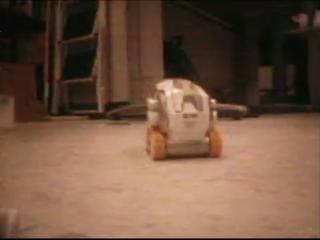cozmo: (143, 73, 224, 162)
